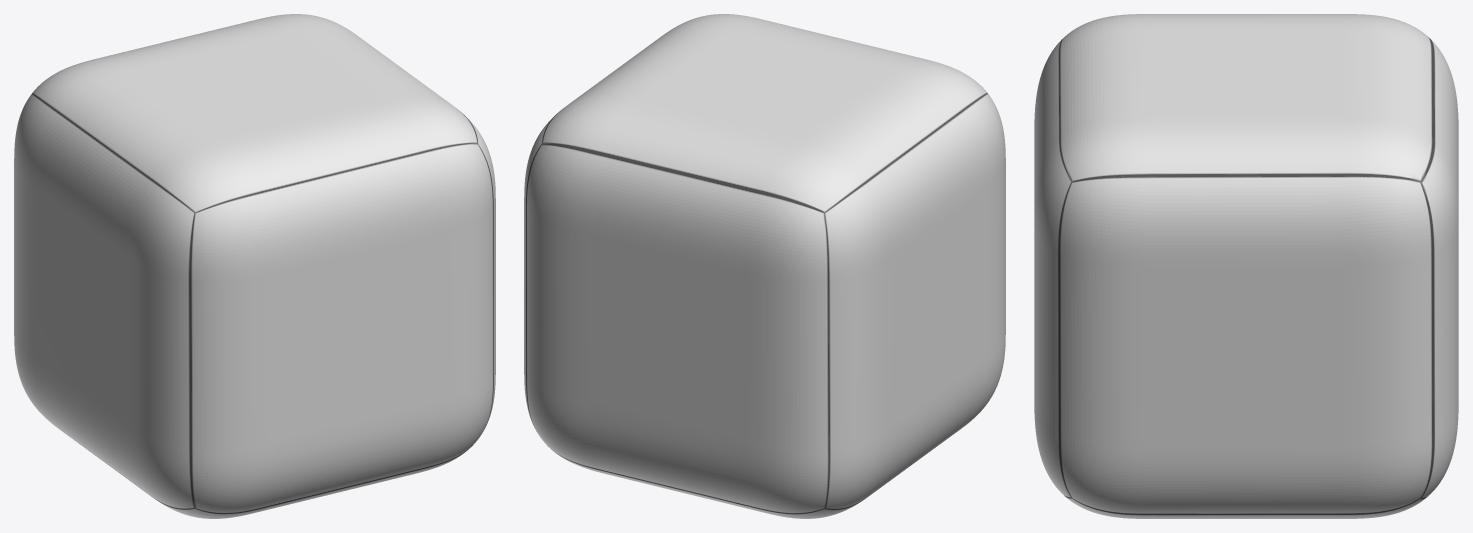
Rendered from tile2.fbx.
3 renders of one model, left to right at view 1: azimuth 30°, elevation 25°; view 2: azimuth 150°, elevation 25°; view 3: azimuth 270°, elevation 25°, orthographic. The views are drawn at different scales.
Visible parts, largest first — view 1: Cube.001; view 2: Cube.001; view 3: Cube.001.
Boxes of the visible parts, x1=… form: Cube.001: x1=14, y1=14, x2=495, y2=518; Cube.001: x1=524, y1=14, x2=1005, y2=518; Cube.001: x1=1034, y1=14, x2=1458, y2=518.
Size of the model in its own units: 200 by 200 by 200.
